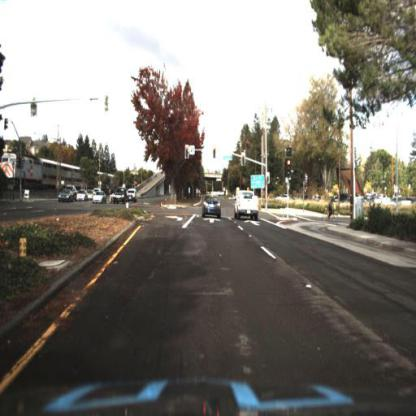biker: (326, 199, 340, 220)
car: (233, 190, 261, 221), (205, 193, 222, 215), (59, 184, 75, 204), (111, 188, 126, 204), (59, 187, 74, 202), (92, 191, 106, 206), (114, 189, 128, 203), (94, 190, 106, 206), (128, 185, 138, 203), (278, 192, 290, 204), (77, 189, 87, 202), (79, 191, 88, 203), (130, 189, 138, 202)
trafficLight-Red: (211, 140, 221, 154), (287, 161, 293, 184), (239, 149, 247, 165), (213, 146, 219, 162), (242, 152, 247, 168), (286, 159, 292, 169)
trafficLight-RedLeft: (184, 144, 192, 163)
